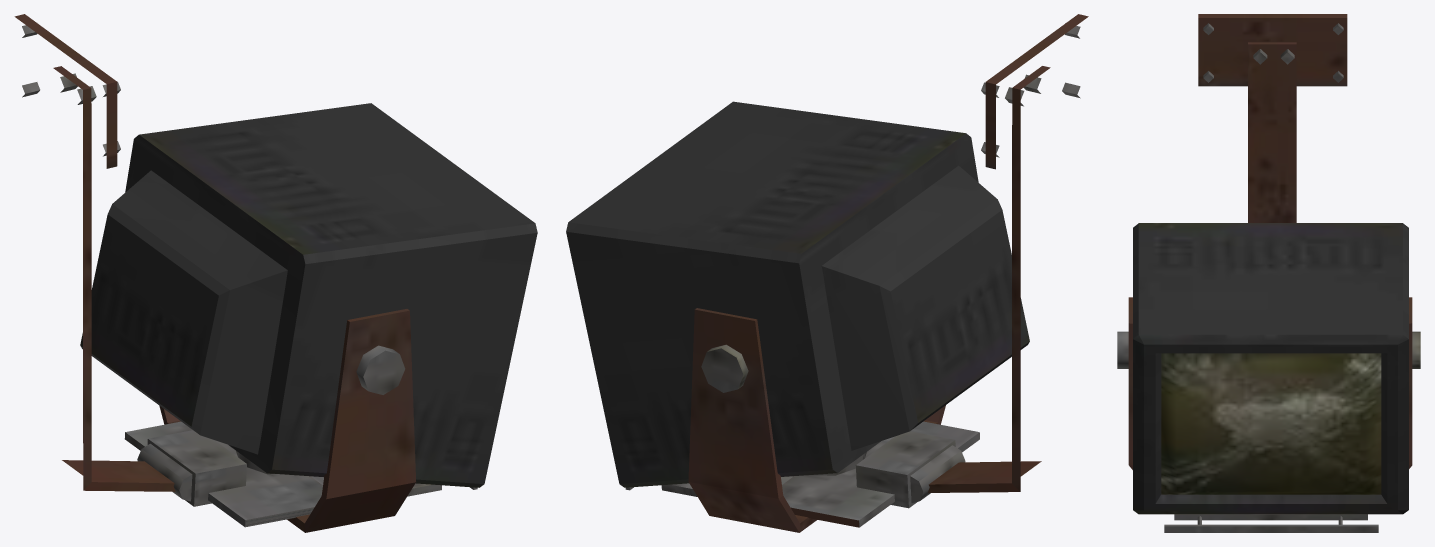
The model's file is controlroom_monitor001a.glb.
3 views of the same model, side by side, from view 1: azimuth 30°, elevation 25°; view 2: azimuth 150°, elevation 25°; view 3: azimuth 270°, elevation 25° (orthographic). The views are drawn at different scales.
Visible parts, largest first — view 1: 0_controlroom_001; view 2: 0_controlroom_001; view 3: 0_controlroom_001.
Part boxes in pixels (<box>): 0_controlroom_001: <box>14,14,537,532</box>; 0_controlroom_001: <box>566,14,1088,532</box>; 0_controlroom_001: <box>1117,14,1420,532</box>.
Size of the model in its own units: 0.881 by 1.05 by 0.7282.
Materials: 1 (1 with a texture image).
